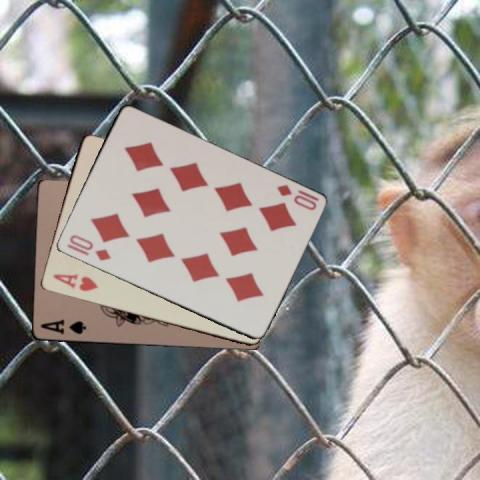10d: (66, 231, 112, 263), (273, 181, 318, 212)
Ah: (49, 271, 99, 293)
As: (37, 317, 87, 336)
